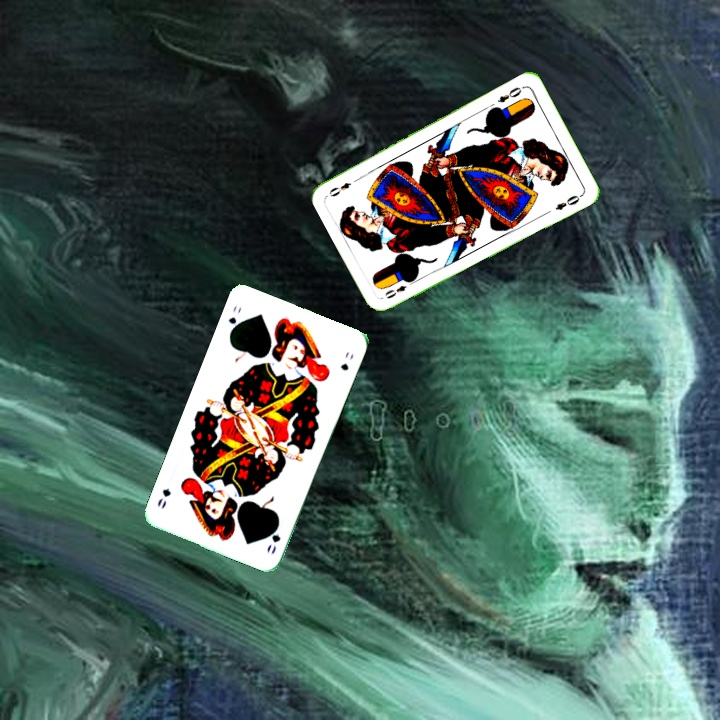EO: (381, 276, 418, 301), (493, 82, 527, 105)
GO: (263, 517, 283, 557), (224, 301, 244, 338)
